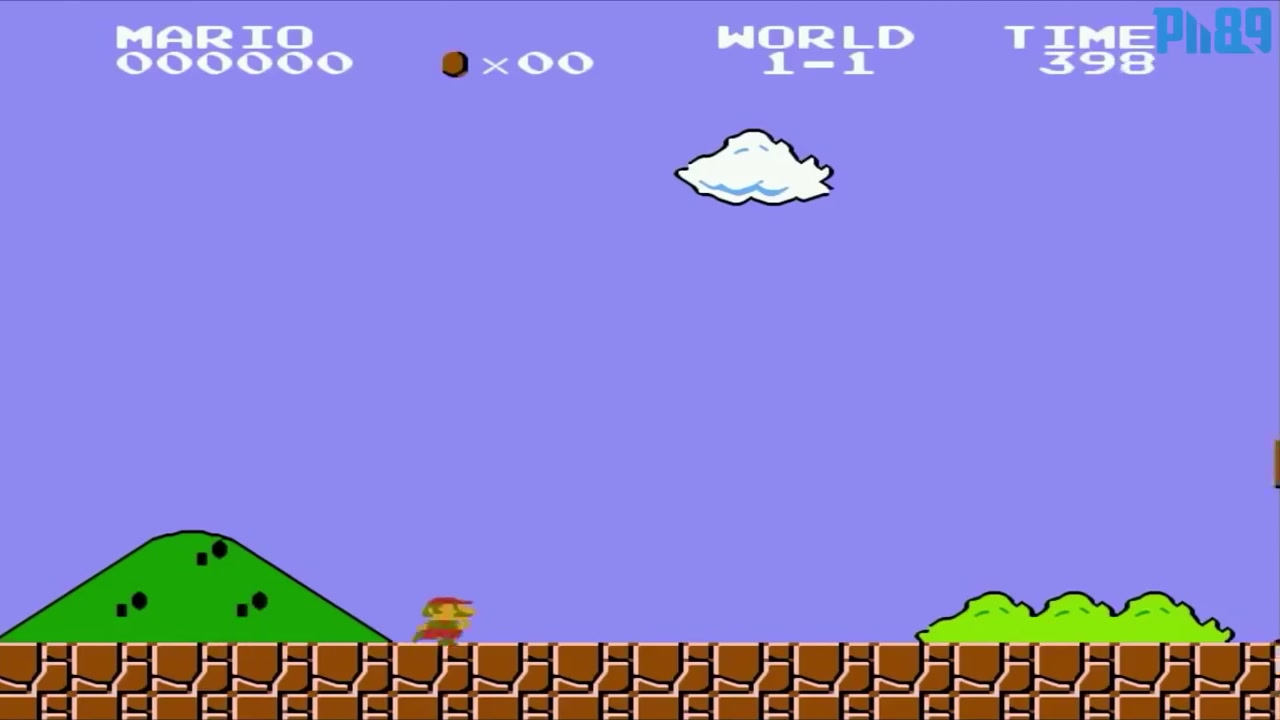mario: (396, 588, 483, 648)
